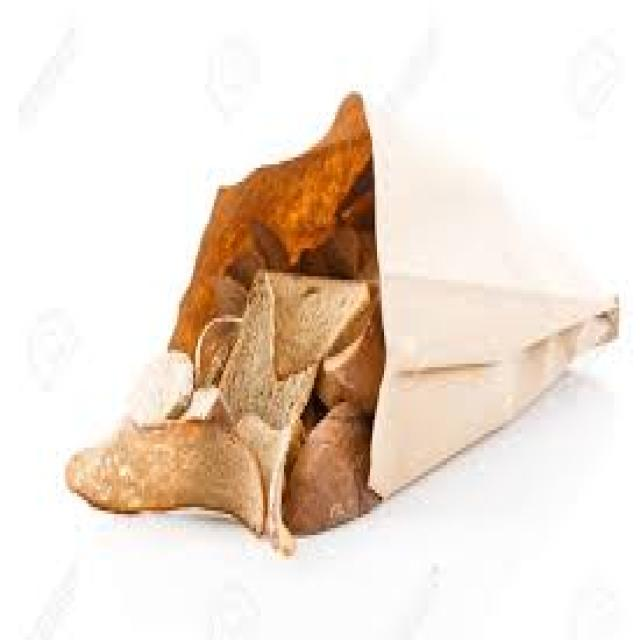organic: (140, 128, 442, 534)
